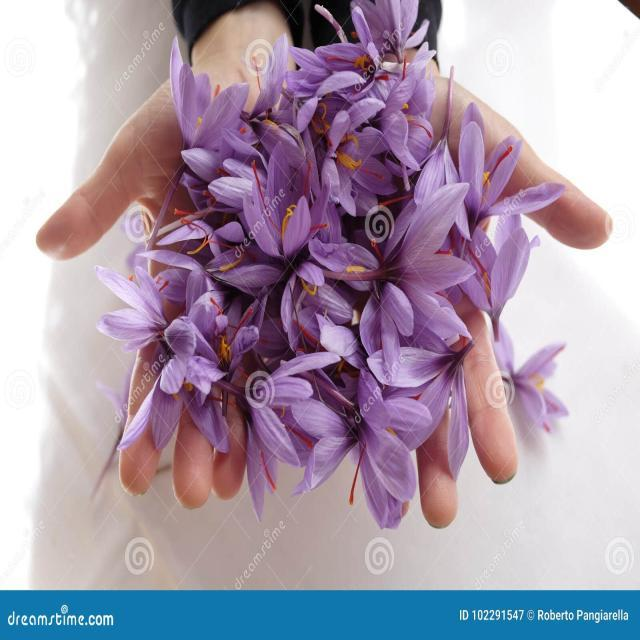Flower: (138, 0, 582, 509)
stigma: (436, 59, 461, 148), (344, 429, 369, 506), (462, 230, 490, 294), (245, 149, 272, 211)
